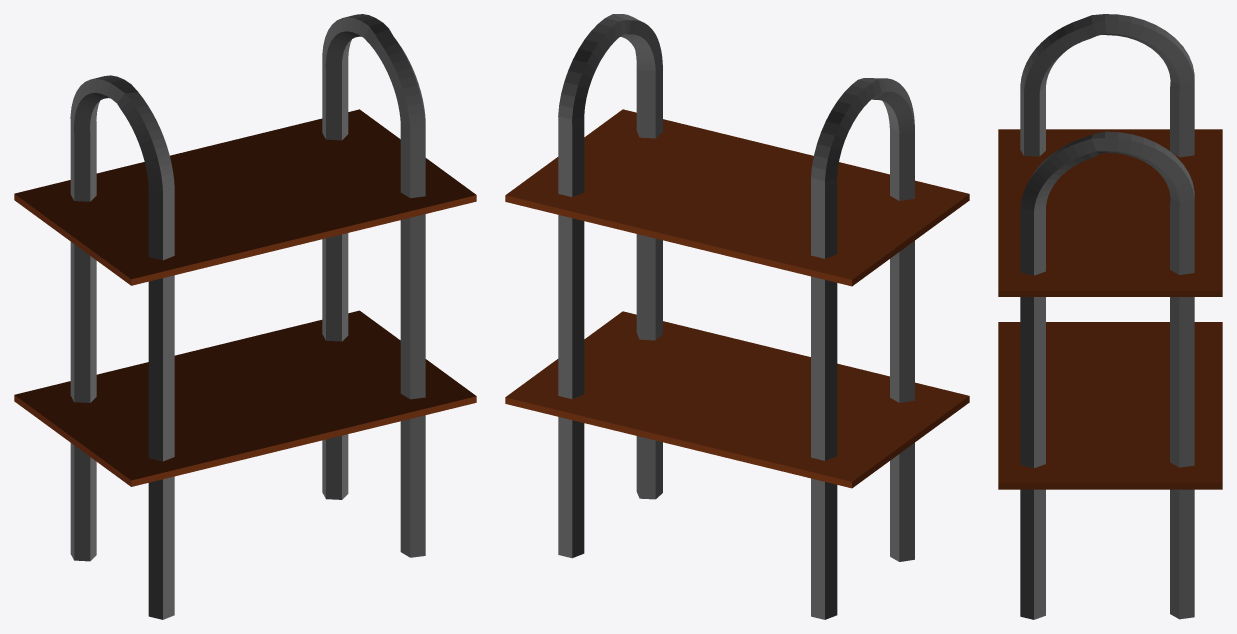
File: Shelving Unit 1.fbx
3 views of the same model, side by side, from view 1: azimuth 30°, elevation 25°; view 2: azimuth 150°, elevation 25°; view 3: azimuth 270°, elevation 25° (orthographic). The views are drawn at different scales.
Visible parts, largest first — view 1: Node 0; view 2: Node 0; view 3: Node 0.
Part boxes in pixels (bbox=[...]): Node 0: bbox=[14, 14, 476, 619]; Node 0: bbox=[505, 14, 969, 619]; Node 0: bbox=[998, 14, 1222, 619].
Bounding box in the file's own units: 0.5063 × 1.19 × 0.8626.
